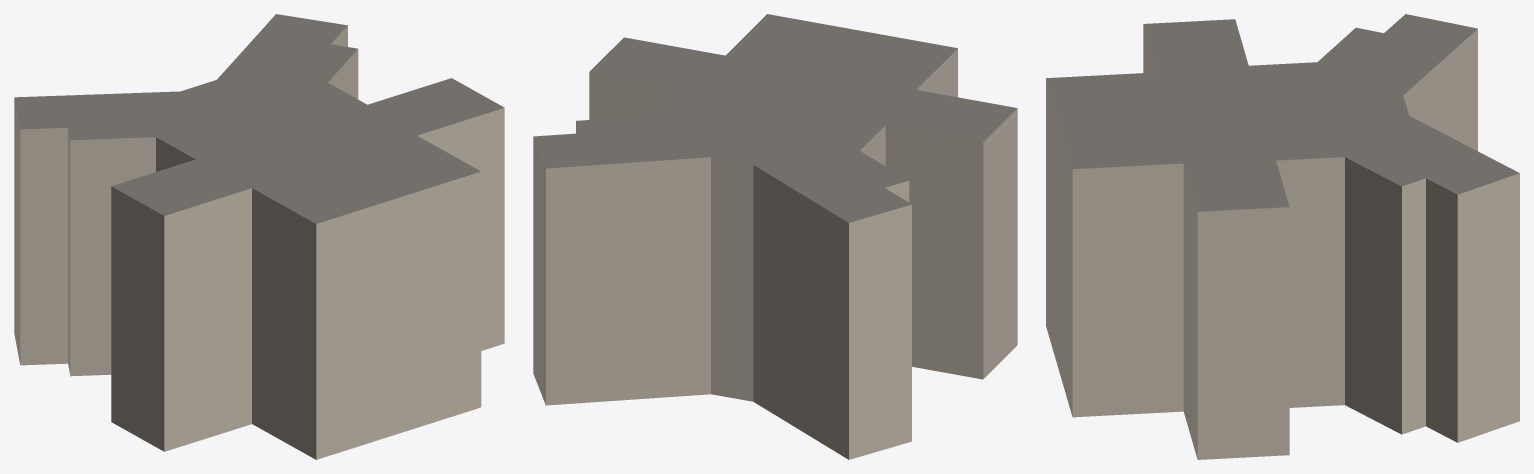
The picture shows the model from 3 angles, left to right: view 1: azimuth 30°, elevation 25°; view 2: azimuth 150°, elevation 25°; view 3: azimuth 270°, elevation 25°; orthographic projection. The views are drawn at different scales.
Visible parts, largest first — view 1: HP-w1568555037; view 2: HP-w1568555037; view 3: HP-w1568555037.
Boxes of the visible parts, x1,y1,x2,y2 form: HP-w1568555037: (14,14,504,459); HP-w1568555037: (533,14,1017,459); HP-w1568555037: (1046,14,1519,459).
Size of the model in its own units: 30.79 by 18 by 31.16.
